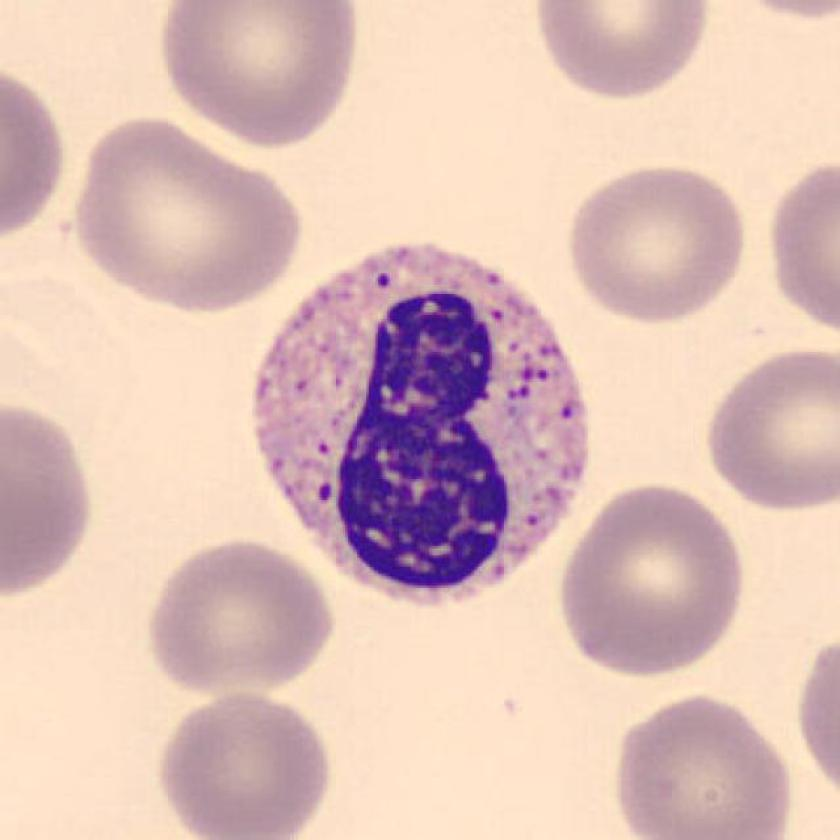neutrophil: (253, 243, 588, 605)
